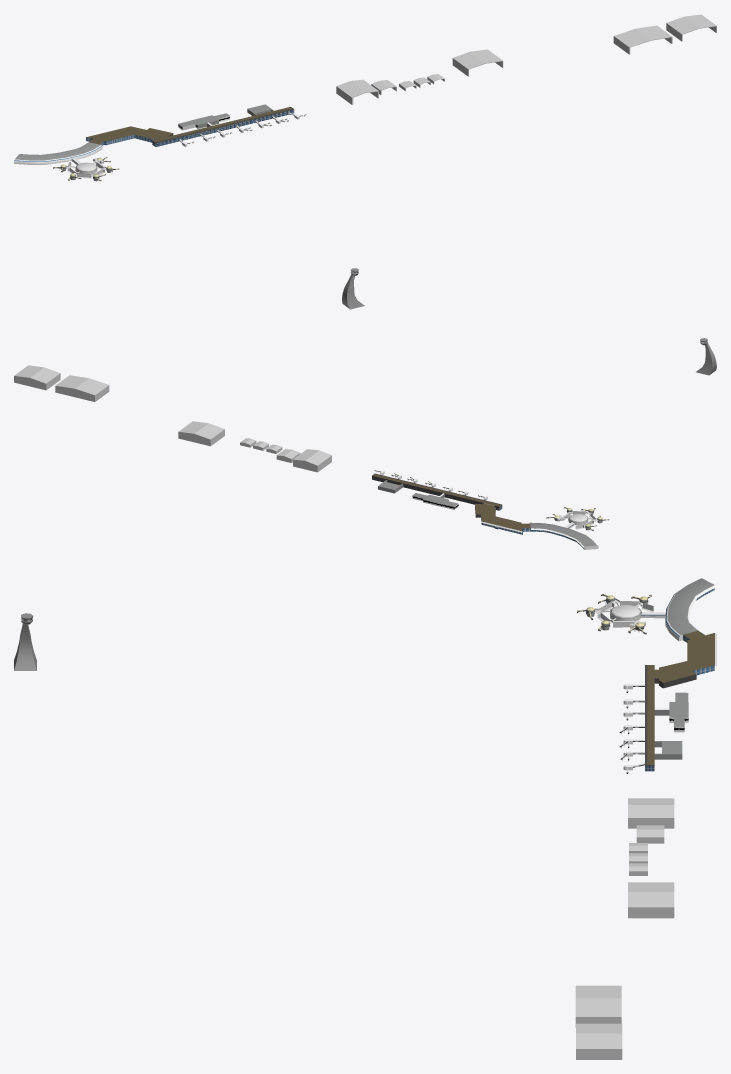
Rendered from auh1.glb.
The picture shows the model from 3 angles, top to bottom: view 1: azimuth 30°, elevation 25°; view 2: azimuth 150°, elevation 25°; view 3: azimuth 270°, elevation 25°; orthographic projection. The views are drawn at different scales.
Parts seen in each view (by area): view 1: Cube.016, Cube, Cube.014; view 2: Cube.016, Cube, Cube.017; view 3: Cube.016, Cube, Cube.017.
Boxes of the visible parts, x1,y1,x2,y2 form: Cube.016: (336,14,716,104); Cube: (14,106,294,164); Cube.014: (152,110,294,146); Cube.016: (14,365,331,472); Cube: (372,473,598,549); Cube.017: (696,341,716,375); Cube.016: (575,798,674,1059); Cube: (641,578,716,765); Cube.017: (14,619,36,670).
Size of the model in its own units: 2181 by 108 by 1358.
Materials: 8 (3 with a texture image).
